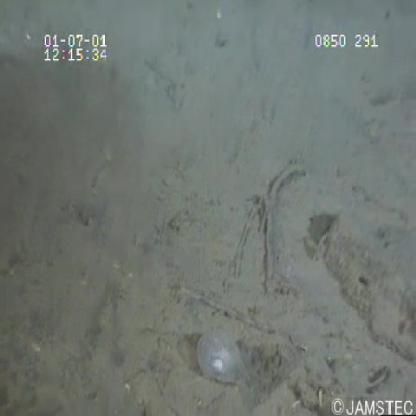Rác: (189, 324, 254, 398)
